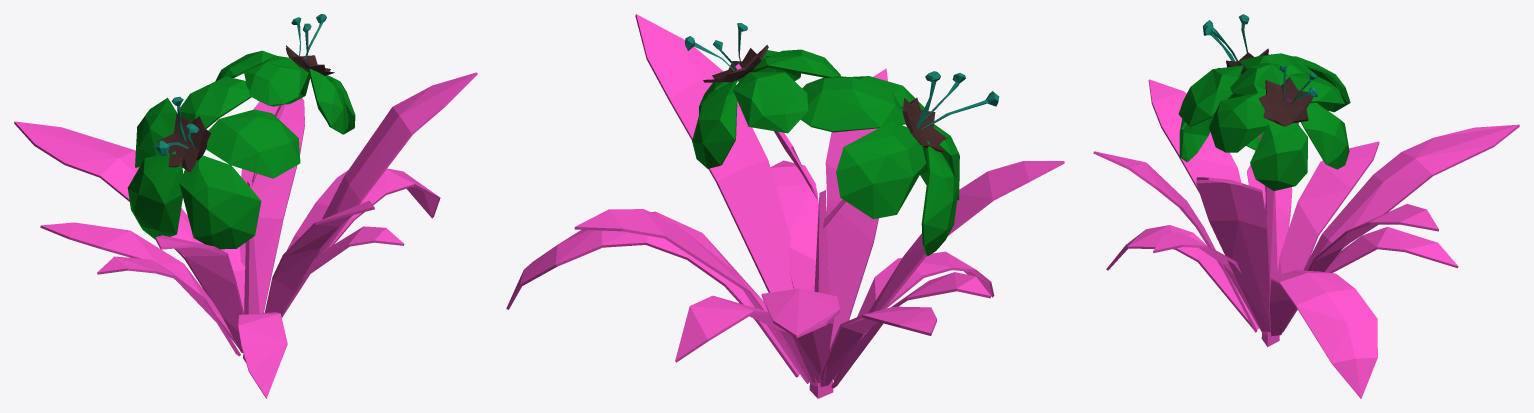
Rendered from ShrubJungleRedSmall02.fbx.
The picture shows the model from 3 angles, left to right: view 1: azimuth 30°, elevation 25°; view 2: azimuth 150°, elevation 25°; view 3: azimuth 270°, elevation 25°; orthographic projection. The views are drawn at different scales.
Visible parts, largest first — view 1: ShrubJungleRedSmall02_LOD0; view 2: ShrubJungleRedSmall02_LOD0; view 3: ShrubJungleRedSmall02_LOD0.
Part boxes in pixels (left/top/right/bottom): ShrubJungleRedSmall02_LOD0: left=14, top=14, right=477, bottom=398; ShrubJungleRedSmall02_LOD0: left=506, top=14, right=1064, bottom=398; ShrubJungleRedSmall02_LOD0: left=1093, top=14, right=1519, bottom=398.
Size of what is drawn, in the model's own units: 102 by 80.05 by 101.
